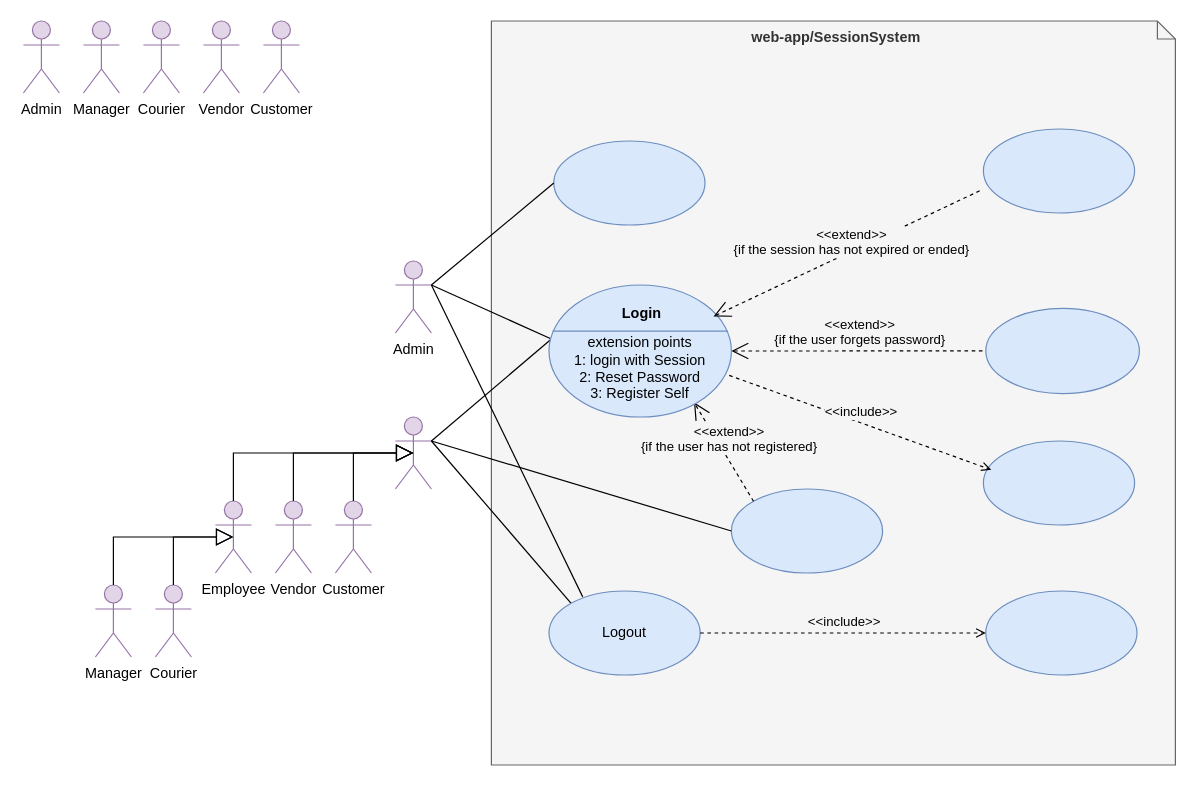
The diagram is 1196 pixels wide and 786 high, and some of its shapes have lost their labels. The centre of each missing label's shape, as x and y in pixels:
"End Session" belongs at point (1061, 632).
"Login with Session" belongs at point (1058, 170).
"Register Employee" belongs at point (629, 182).
"Register Self" belongs at point (806, 530).
"Reset Password" belongs at point (1062, 350).
"Start Session" belongs at point (1058, 482).
"User" belongs at point (412, 452).
